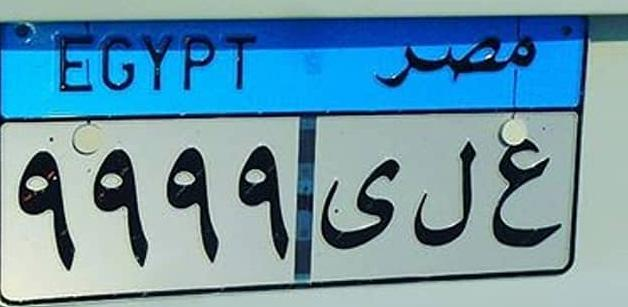9: (17, 147, 73, 277), (89, 147, 147, 265), (164, 143, 219, 266), (238, 145, 290, 259)
ain: (489, 131, 557, 248)
laam: (414, 139, 477, 244)
yaa: (317, 157, 401, 253)
